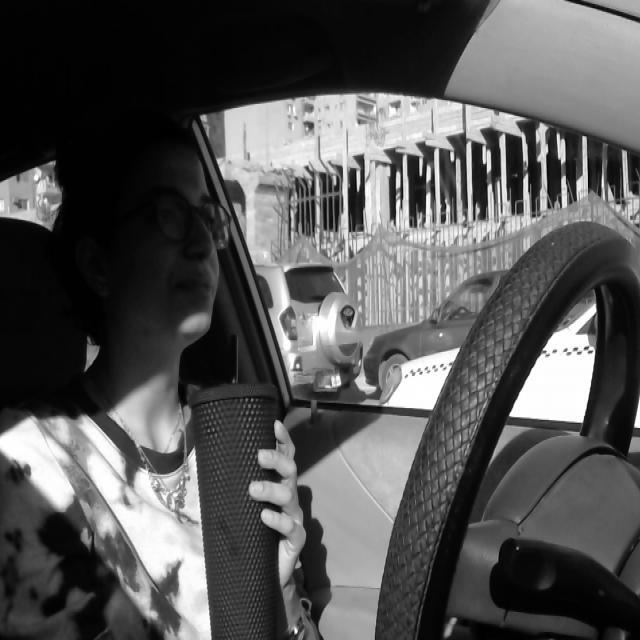Drinking: (188, 383, 305, 640)
